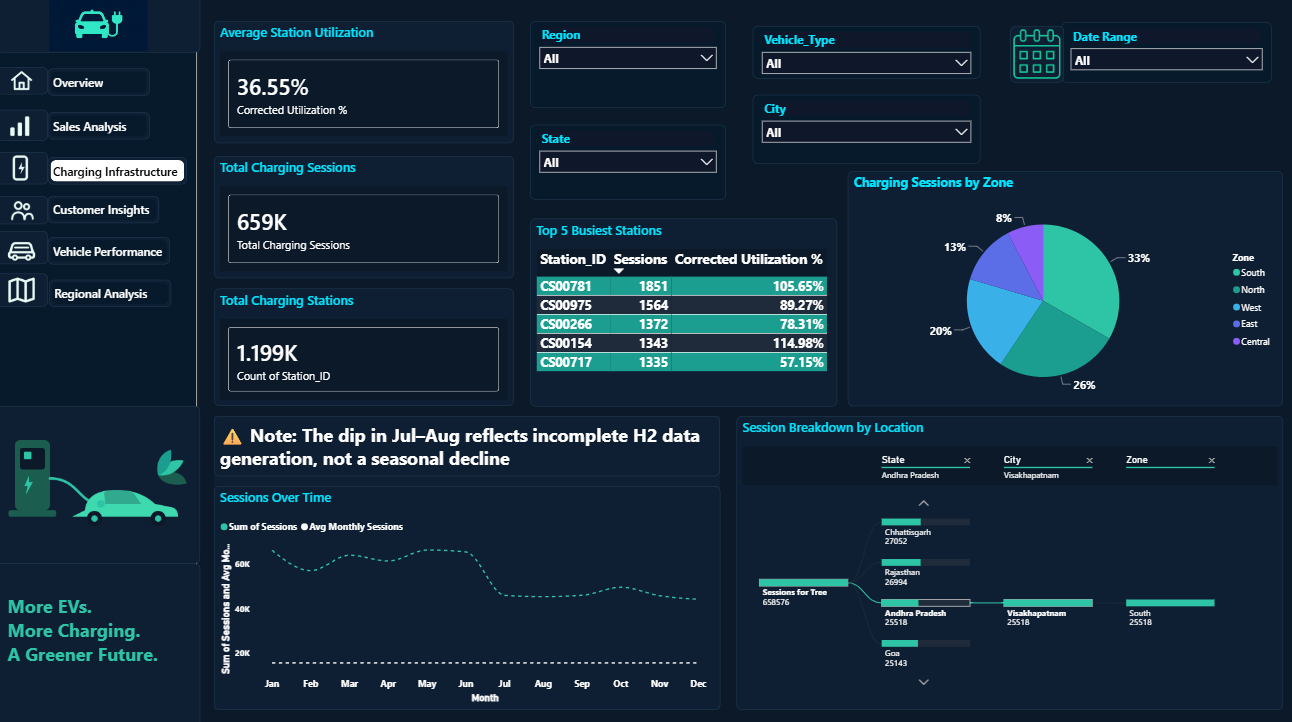

The page's visual inventory and layout, read from the dashboard file:
{"tool":"powerbi","page":{"name":"Charging Infrastructure","canvas":[1920,1080],"ordinal":2},"visuals":[{"type":"shape","box":[0,0,300.8,1079.9],"z":0},{"type":"lineChart","title":"Sessions Over Time","fields":{"Category":["DateTable.Month"],"Y":["Sum(Charging_Usage.Sessions)","Charging_Usage.Avg Monthly Sessions"]},"box":[323.9,721.4,745.4,329.4],"z":13,"group":"g1"},{"type":"textbox","box":[324.6,618.9,744.5,88.7],"z":19,"group":"g1"},{"type":"image","box":[1.8,603.7,301.8,231.9],"z":1000},{"type":"pieChart","title":"Charging Sessions by Zone","fields":{"Category":["Region.Zone"],"Y":["Sum(Charging_Usage.Sessions)"]},"box":[1257.4,257.5,640.6,346.3],"z":2000},{"type":"slicer","fields":{"Values":["Region.State"]},"box":[789.9,190.4,287.8,110.4],"z":3000},{"type":"slicer","fields":{"Values":["Vehicle_Master.Vehicle_Type"]},"box":[1116.7,43.3,335.4,77.9],"z":4000},{"type":"slicer","fields":{"Values":["Region.City"]},"box":[1116.7,145,335.4,101.7],"z":5000},{"type":"slicer","fields":{"Values":["DateTable.Date"]},"box":[1571.2,39,309.5,88.7],"z":6000},{"type":"image","box":[1496.3,44.2,79.1,82.8],"z":7000},{"type":"slicer","fields":{"Values":["Region.Region_ID"]},"box":[789.9,36.8,287.8,127.7],"z":8000},{"type":"cardVisual","title":"Total Charging Stations","fields":{"Data":["Count(Charging_Usage.Station_ID)"]},"box":[324.6,430.7,441.5,173.1],"z":9000},{"type":"cardVisual","title":"Total Charging Sessions","fields":{"Data":["Charging_Usage.Total Charging Sessions"]},"box":[324.6,235.9,441.5,179.6],"z":10000},{"type":"cardVisual","title":"Average Station Utilization","fields":{"Data":["Charging_Usage.Corrected Utilization %"]},"box":[324.6,36.8,441.5,179.6],"z":11000},{"type":"decompositionTreeVisual","title":"Session Breakdown by Location","fields":{"Analyze":["Charging_Usage.Sessions for Tree"],"ExplainBy":["Region.State","Region.City","Region.Zone"]},"box":[1092.9,618.9,805.1,432.8],"z":12000},{"type":"tableEx","title":"Top 5 Busiest Stations","fields":{"Values":["Charging_Usage.Station_ID","Sum(Charging_Usage.Sessions)","Charging_Usage.Corrected Utilization %"]},"box":[789.9,326.8,452.3,277],"z":13000},{"type":"textbox","box":[3.7,835.6,300,244.8],"z":14000},{"type":"image","box":[3.7,0,300,82.8],"z":15000},{"type":"group","id":"g1","title":"Group 1","box":[323.9,618.9,745.4,432],"z":16000},{"type":"image","box":[1.8,105,77.8,39.8],"z":17000},{"type":"image","box":[1.8,168.3,77.8,45.2],"z":18000},{"type":"image","box":[1.8,229.8,77.8,47.1],"z":19000},{"type":"image","box":[1.8,295,77.8,41.6],"z":20000},{"type":"image","box":[1.8,345.6,77.8,48.9],"z":21000},{"type":"image","box":[1.8,409,77.8,48.9],"z":22000},{"type":"actionButton","box":[79.6,106.8,150,40],"z":23000},{"type":"actionButton","box":[79.6,171.9,150,40],"z":24000},{"type":"actionButton","box":[79.6,237.1,205.1,39.8],"z":25000},{"type":"actionButton","box":[79.6,295,164.1,39.8],"z":26000},{"type":"actionButton","box":[79.6,354.7,179.8,39.8],"z":27000},{"type":"actionButton","box":[81.4,418,179.8,39.8],"z":28000}]}

Visuals, with their boxes on the page's 1920x1080 design canvas (x1, y1, x2, y2). These are canvas units, not pixel positions in the 1292x722 screenshot, which may show the page scaled, cropped or inside an application window:
shape: (0,0,301,1080)
"Sessions Over Time" lineChart: (324,721,1069,1051)
textbox: (325,619,1069,708)
image: (2,604,304,836)
"Charging Sessions by Zone" pieChart: (1257,258,1898,604)
slicer - Region.State: (790,190,1078,301)
slicer - Vehicle_Master.Vehicle_Type: (1117,43,1452,121)
slicer - Region.City: (1117,145,1452,247)
slicer - DateTable.Date: (1571,39,1881,128)
image: (1496,44,1575,127)
slicer - Region.Region_ID: (790,37,1078,164)
"Total Charging Stations" cardVisual: (325,431,766,604)
"Total Charging Sessions" cardVisual: (325,236,766,416)
"Average Station Utilization" cardVisual: (325,37,766,216)
"Session Breakdown by Location" decompositionTreeVisual: (1093,619,1898,1052)
"Top 5 Busiest Stations" tableEx: (790,327,1242,604)
textbox: (4,836,304,1080)
image: (4,0,304,83)
"Group 1" group: (324,619,1069,1051)
image: (2,105,80,145)
image: (2,168,80,214)
image: (2,230,80,277)
image: (2,295,80,337)
image: (2,346,80,394)
image: (2,409,80,458)
actionButton: (80,107,230,147)
actionButton: (80,172,230,212)
actionButton: (80,237,285,277)
actionButton: (80,295,244,335)
actionButton: (80,355,259,394)
actionButton: (81,418,261,458)
